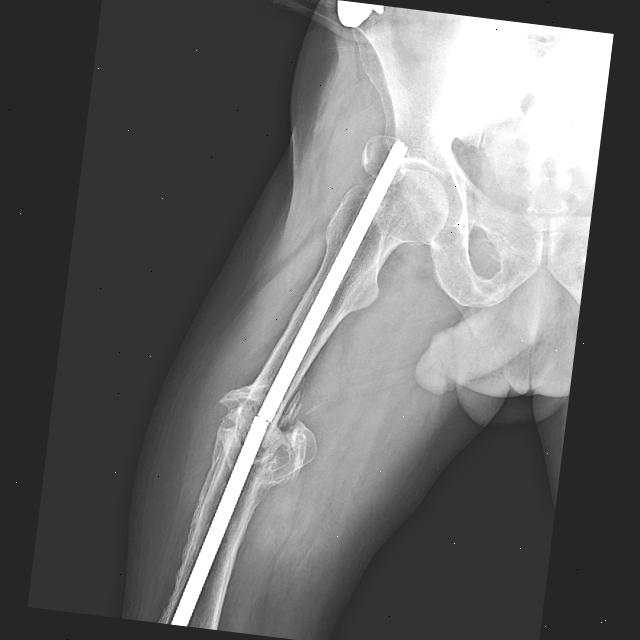fractured: (214, 380, 318, 490)
